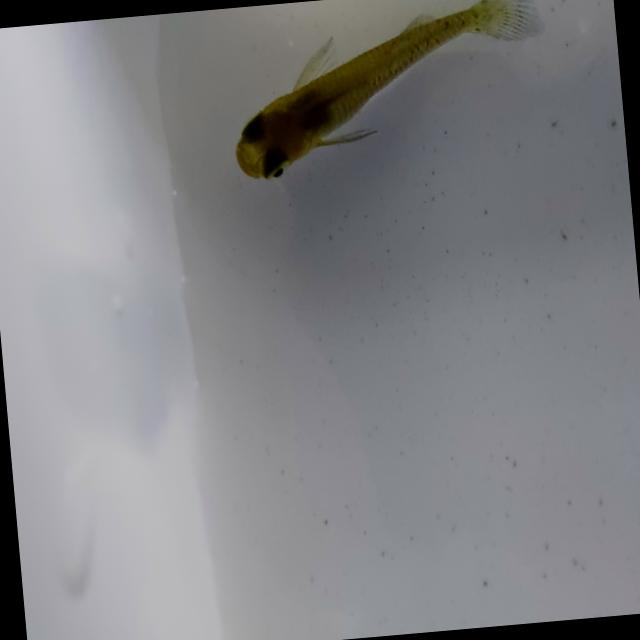Sivrisinek Baligi: (209, 0, 565, 197)
